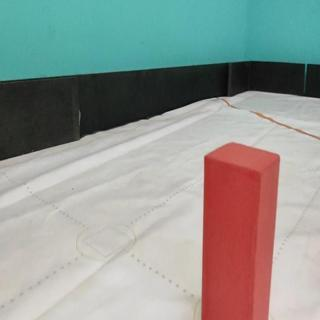redbox: (201, 139, 280, 320)
